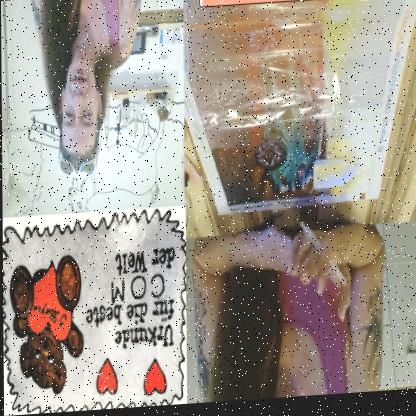streamer: (190, 221, 385, 406), (28, 0, 143, 181)
